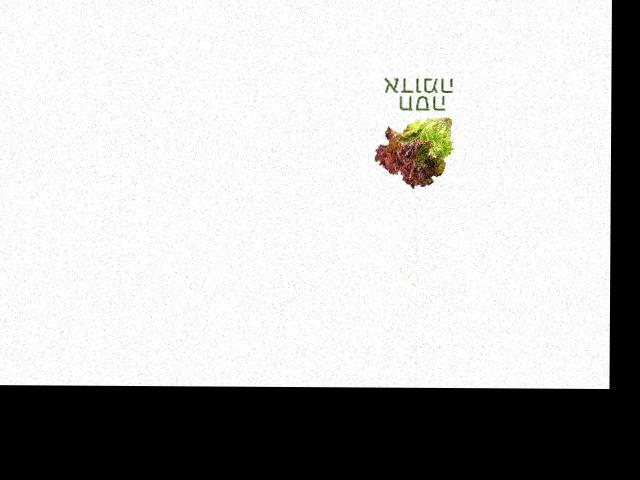lettuce: (372, 114, 461, 188)
